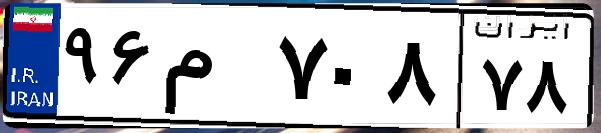0: (330, 28, 385, 110)
6: (110, 28, 158, 98)
7: (270, 28, 330, 110), (475, 38, 525, 113)
8: (385, 28, 445, 110), (525, 38, 570, 115)
9: (57, 26, 110, 100)
م: (158, 20, 270, 120)
